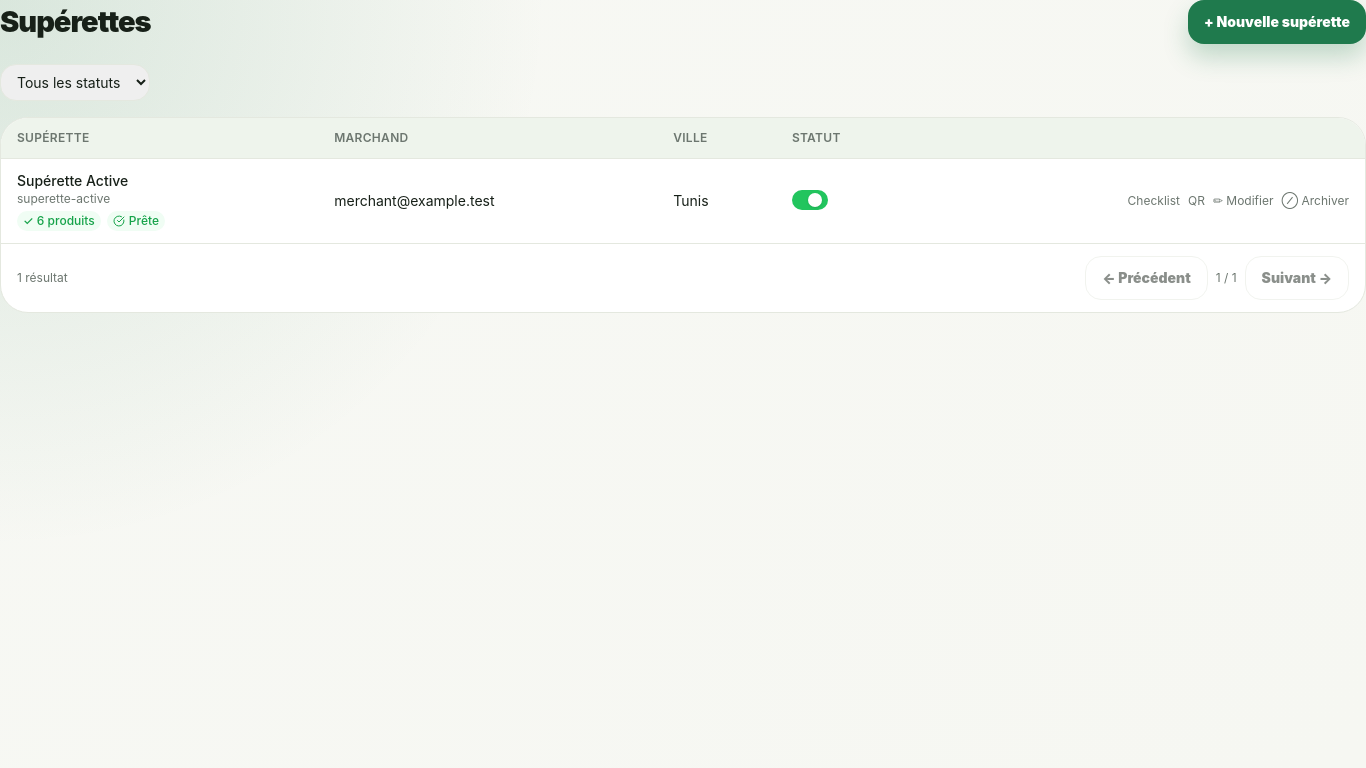
SuperettesPage › ouvre le détail checklist prête depuis la liste sans appel API supplémentaire
This screenshot has width=1366, height=768.
Expected: the text "Prête" is shown, [107,211,165,231]
Click the button with aria-label "Voir la checklist activation": x=1154, y=201 [1128,193,1180,209]
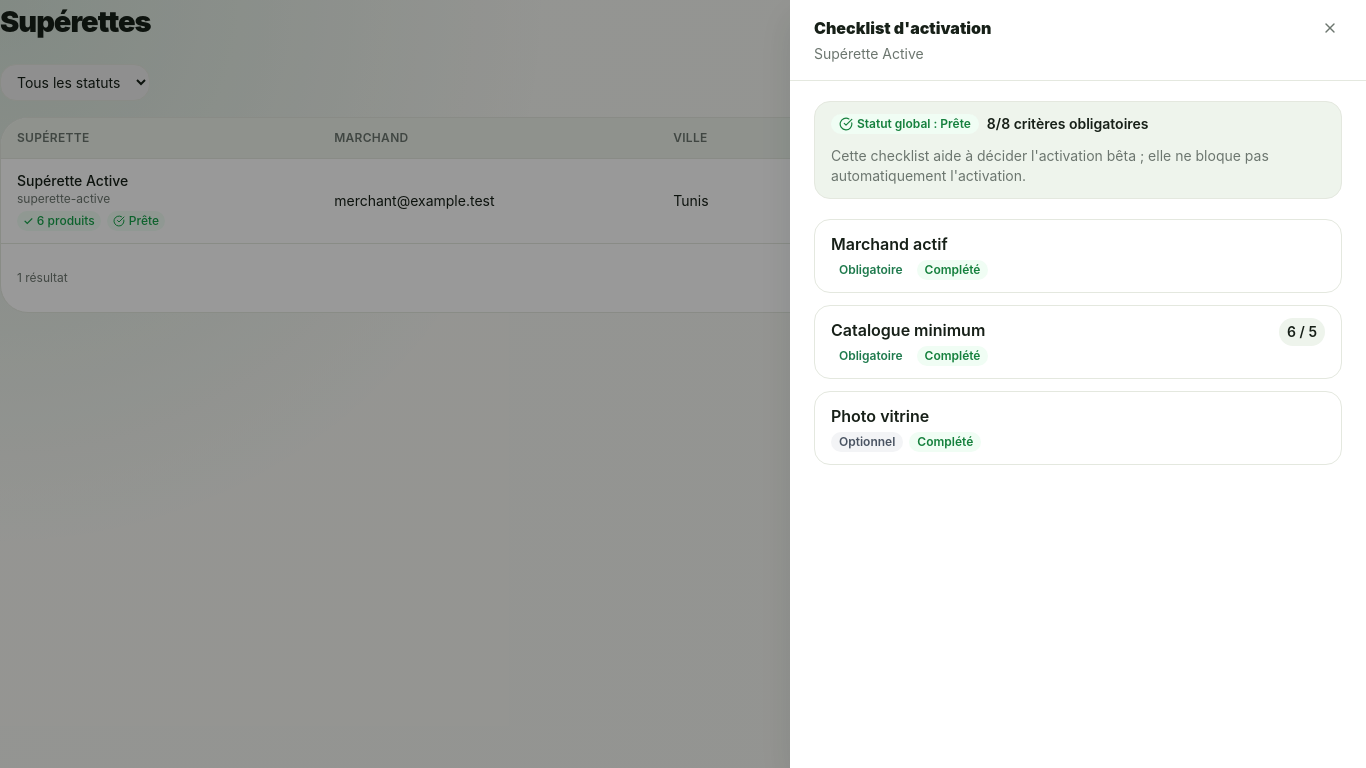
Expected: the dialog "Checklist d'activation" is shown, [790,0,1365,767]
Expected: the text "Supérette Active" is shown, [814,45,924,62]
Expected: the text "Statut global : Prête" is shown, [831,114,979,134]
